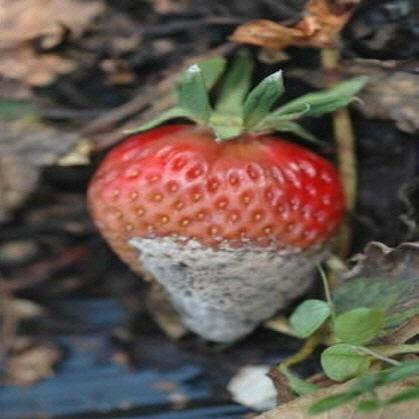Gray Mold: (104, 227, 342, 342)
